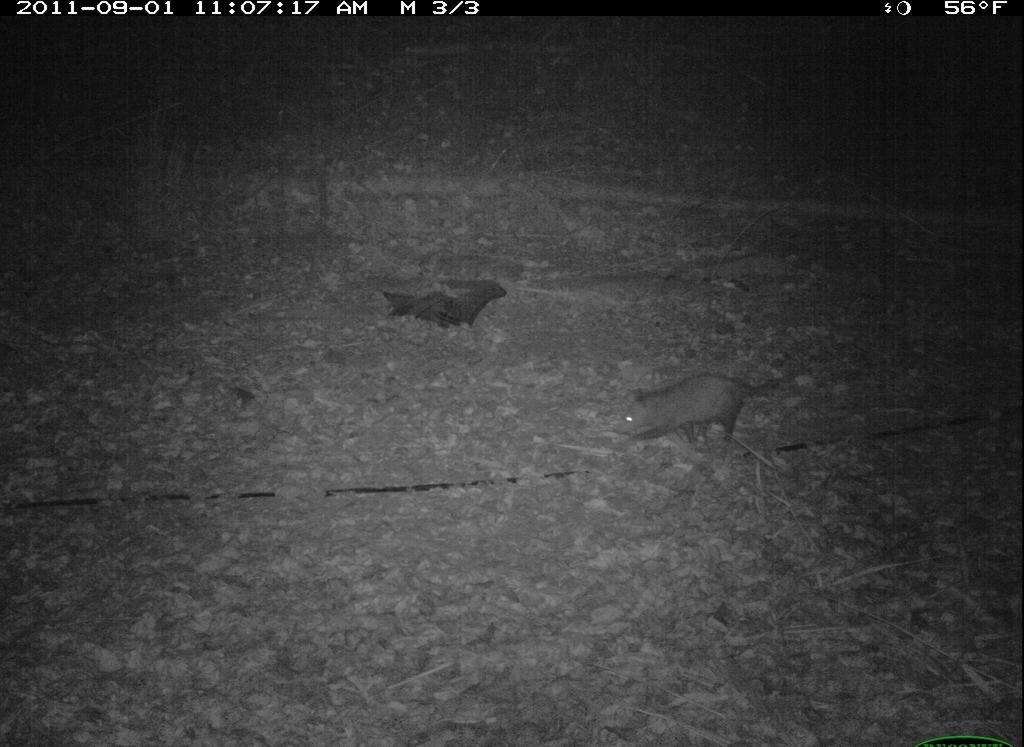opossum: (602, 349, 794, 481)
